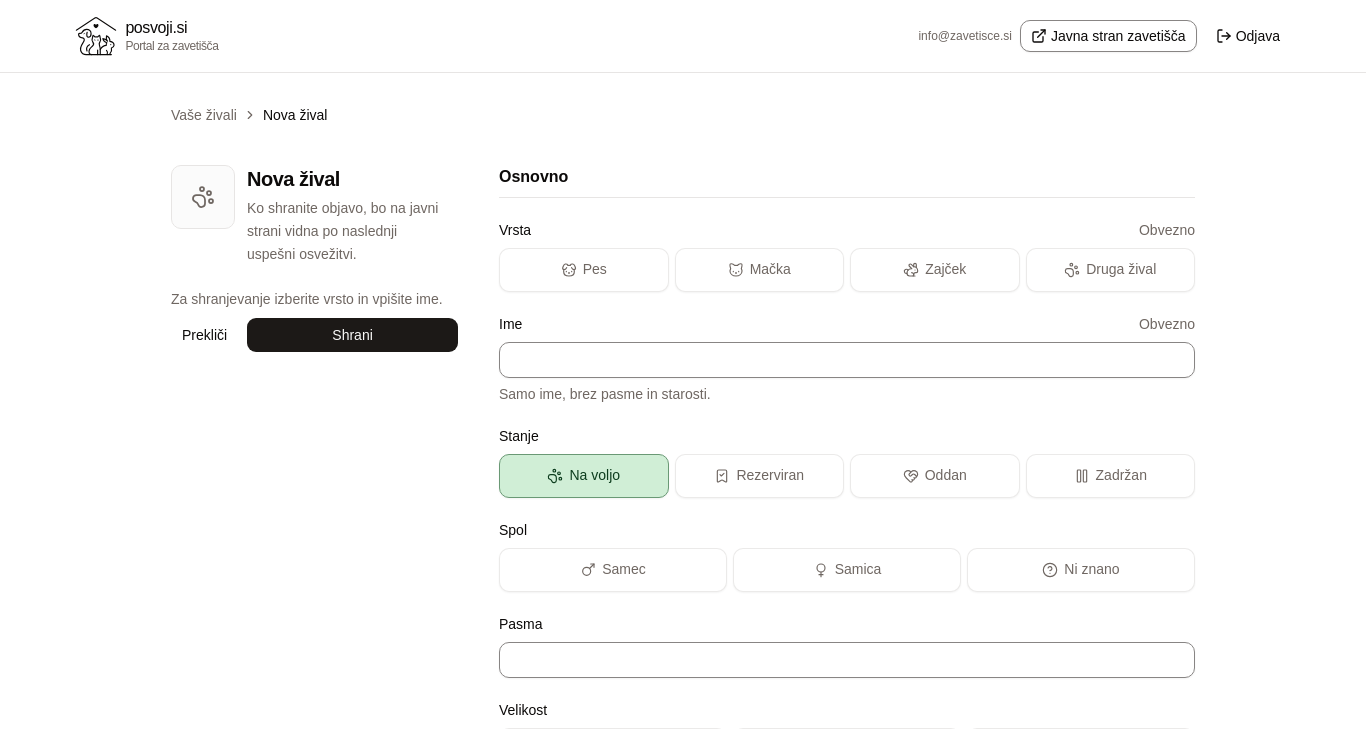
Test case: a new listing › explains and focuses each missing required answer before sending
This screenshot has width=1366, height=729.
Expected: the field labelled "Ime" is shown, [499,342,1195,378]
Click the button "Shrani".
click(353, 335)  # box [246,317,459,353]
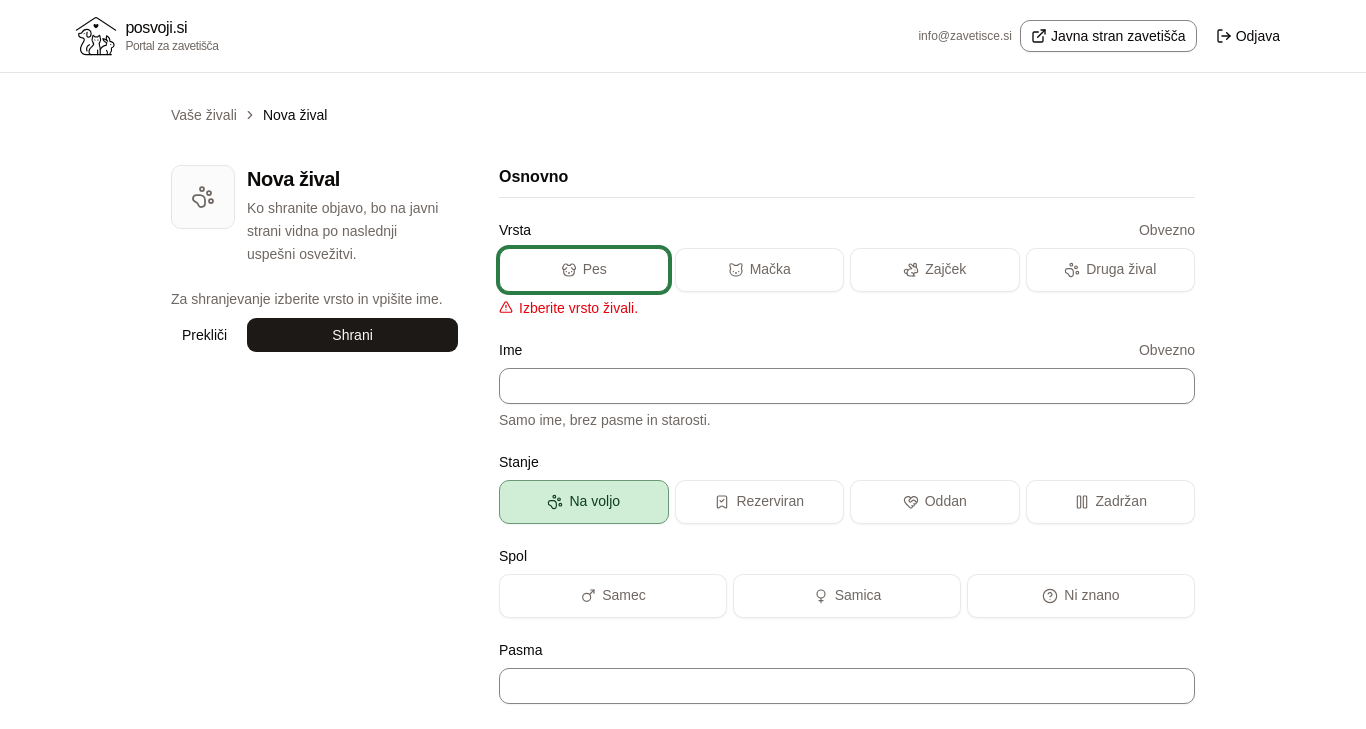
Now the message "Izberite vrsto živali." is shown, box [499,300,638,316]
Click the radio button labelled "Mačka".
click(759, 270)  # box [674,248,844,292]
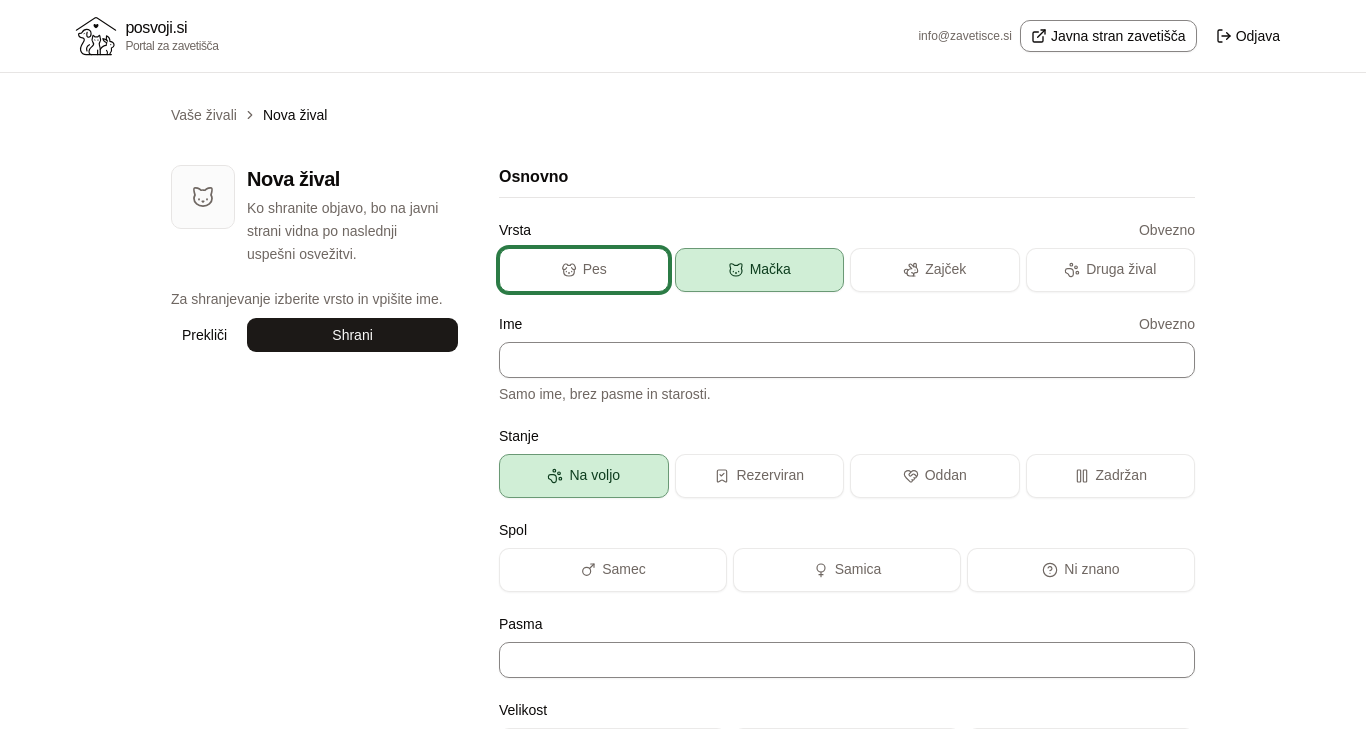
Click the button "Shrani".
click(353, 335)  # box [246,317,459,353]
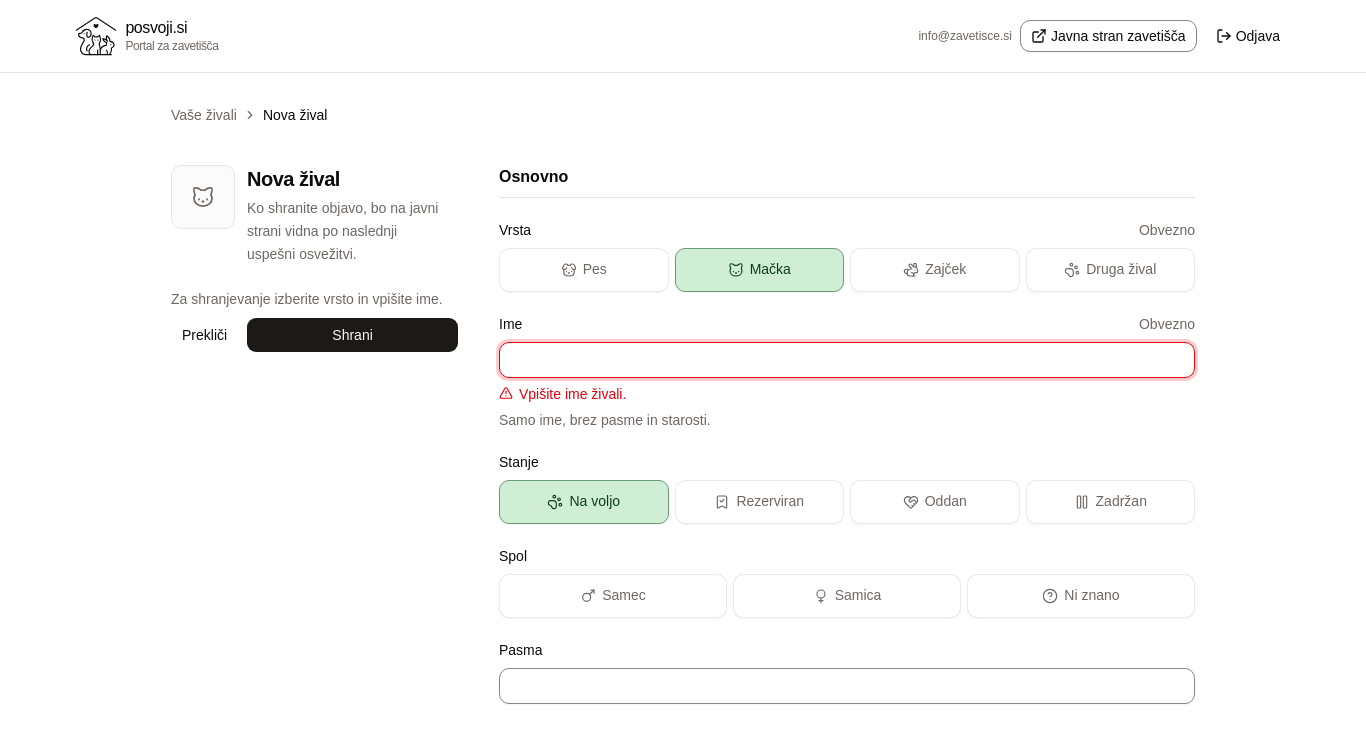
Now the message "Vpišite ime živali." is shown, box [499,386,626,402]
Type "  Luna " into the field labelled "Ime".
click(847, 360); type("  Luna ")  # box [499,342,1195,378]
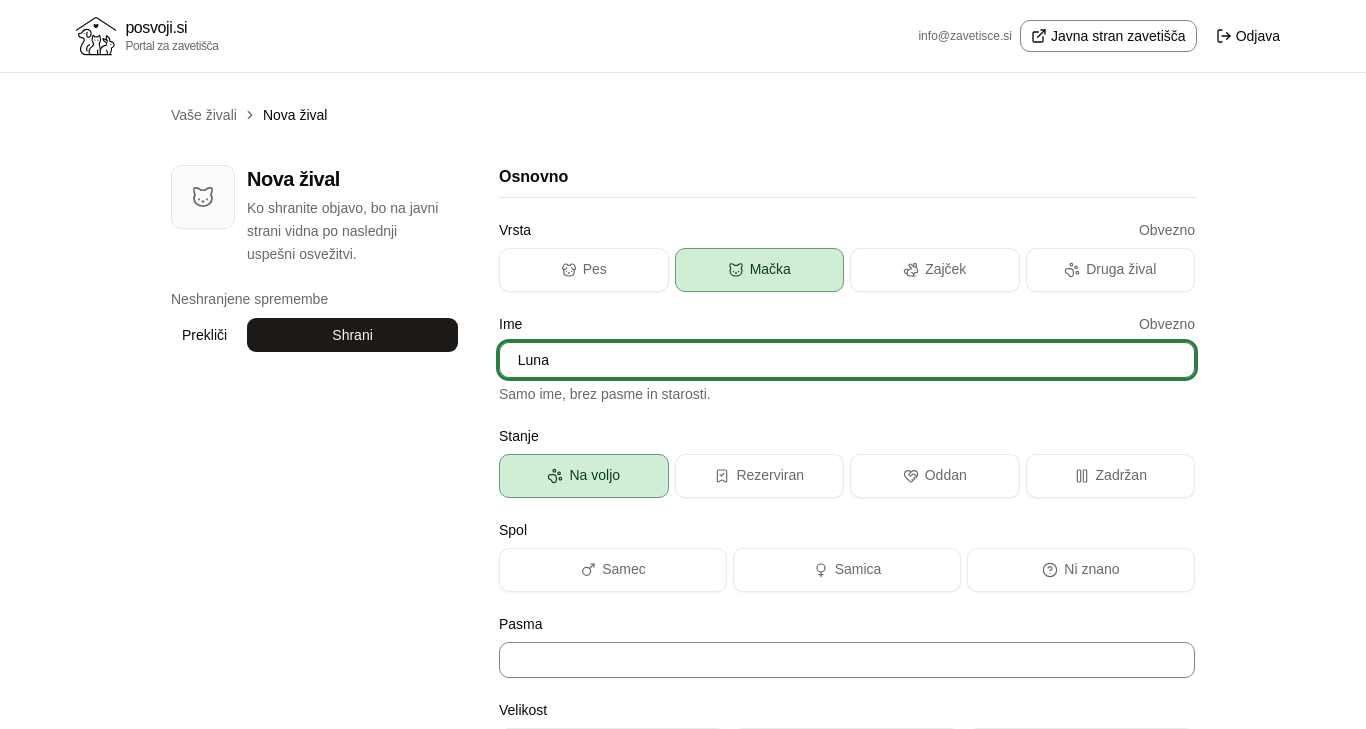
Now the message "Vpišite ime živali." is gone
Now the text "Za shranjevanje izberite vrsto in vpišite ime." is gone
Now the text "Neshranjene spremembe" is shown, box [171,291,328,307]
